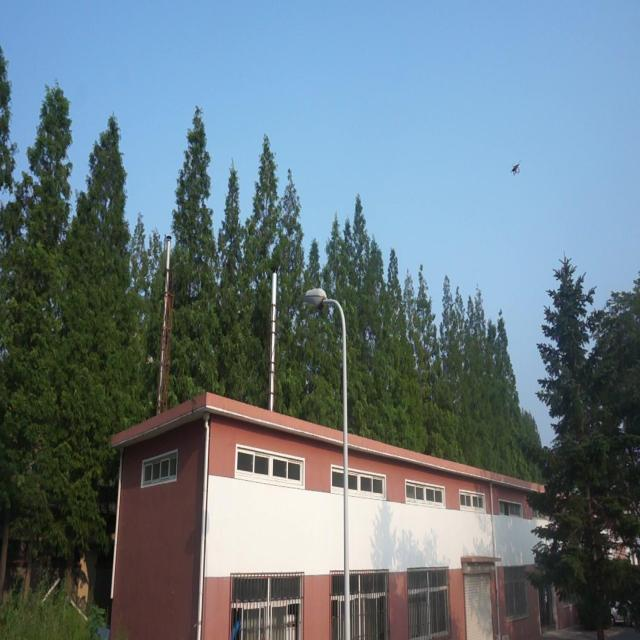drone: (511, 160, 520, 175)
